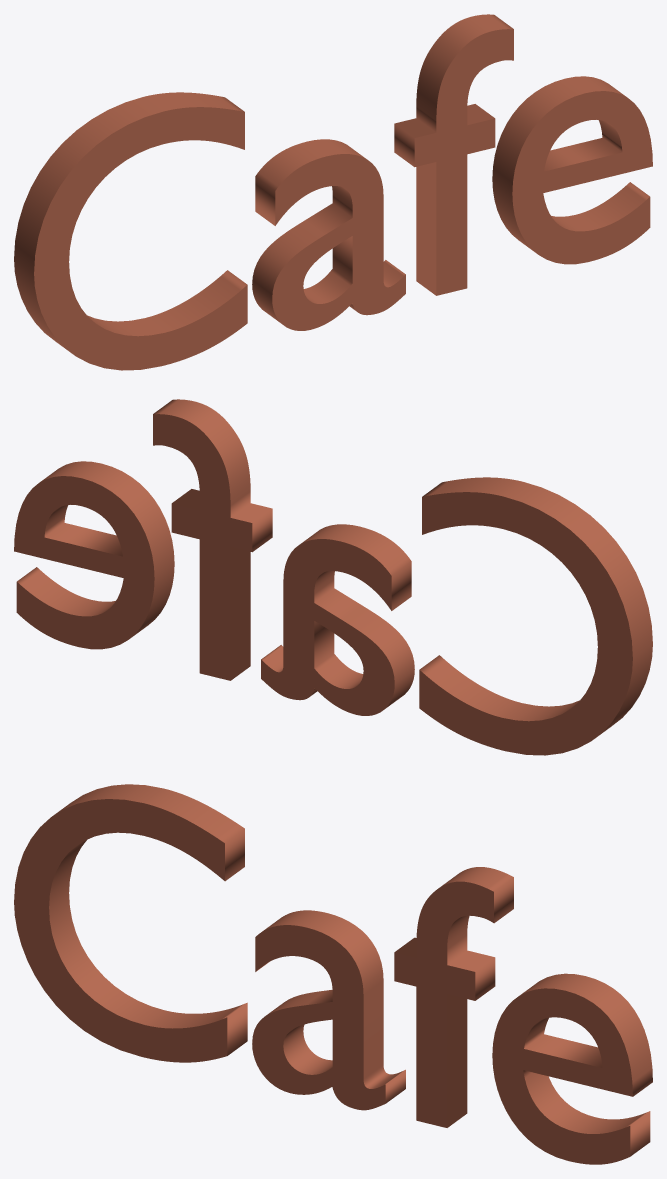
Rendered from cafe.obj.
The picture shows the model from 3 angles, top to bottom: view 1: azimuth 30°, elevation 25°; view 2: azimuth 150°, elevation 25°; view 3: azimuth 330°, elevation 25°; orthographic projection.
Visible parts, largest first — view 1: cafe; view 2: cafe; view 3: cafe.
Boxes of the visible parts, x1=… form: cafe: x1=14, y1=14, x2=652, y2=370; cafe: x1=14, y1=399, x2=652, y2=755; cafe: x1=14, y1=784, x2=652, y2=1164.
Bounding box in the file's own units: 16.2 × 6.36 × 0.9084.
